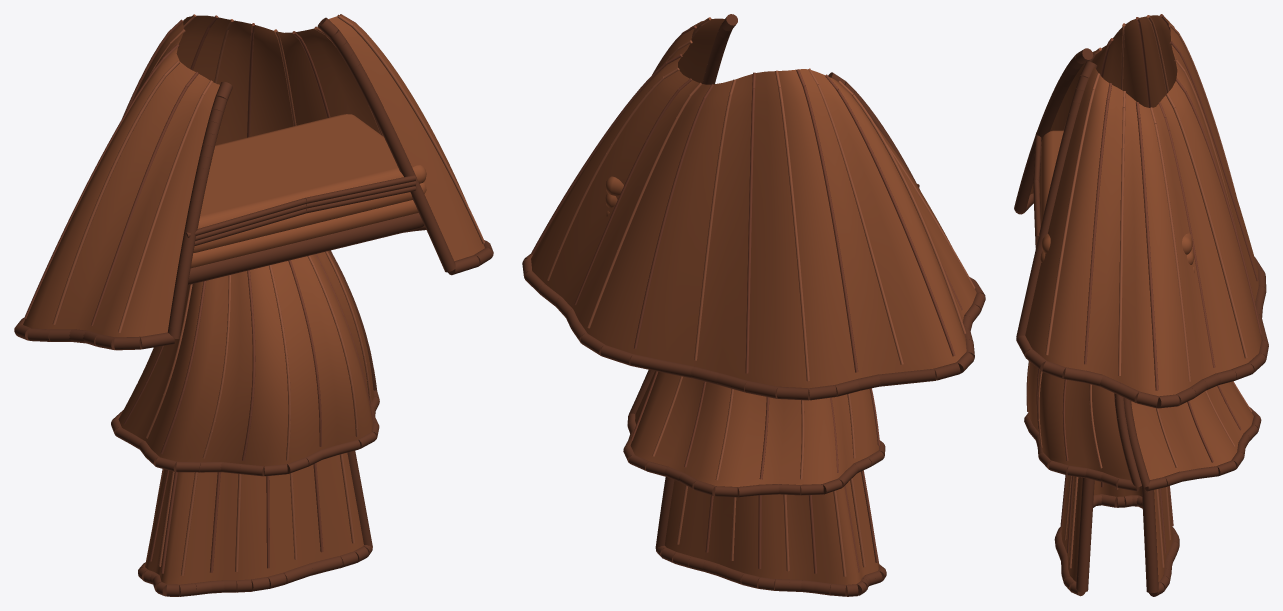
The model's file is ioan-mantie.glb.
The picture shows the model from 3 angles, left to right: view 1: azimuth 30°, elevation 25°; view 2: azimuth 150°, elevation 25°; view 3: azimuth 270°, elevation 25°; orthographic projection. The views are drawn at different scales.
Visible parts, largest first — view 1: worn, draped, folded, hung; view 2: worn, draped, hung; view 3: worn, draped, hung, folded.
Boxes of the visible parts, bbox=[...] form: worn: bbox=[14, 14, 493, 350]; draped: bbox=[111, 250, 379, 476]; folded: bbox=[186, 114, 426, 284]; hung: bbox=[138, 450, 372, 596]; worn: bbox=[522, 14, 985, 400]; draped: bbox=[623, 370, 885, 497]; hung: bbox=[655, 470, 886, 596]; worn: bbox=[1014, 14, 1268, 408]; draped: bbox=[1024, 361, 1261, 491]; hung: bbox=[1054, 475, 1179, 596]; folded: bbox=[1033, 130, 1194, 272].
Size of the model in its own units: 2.51 by 2.86 by 1.28.
